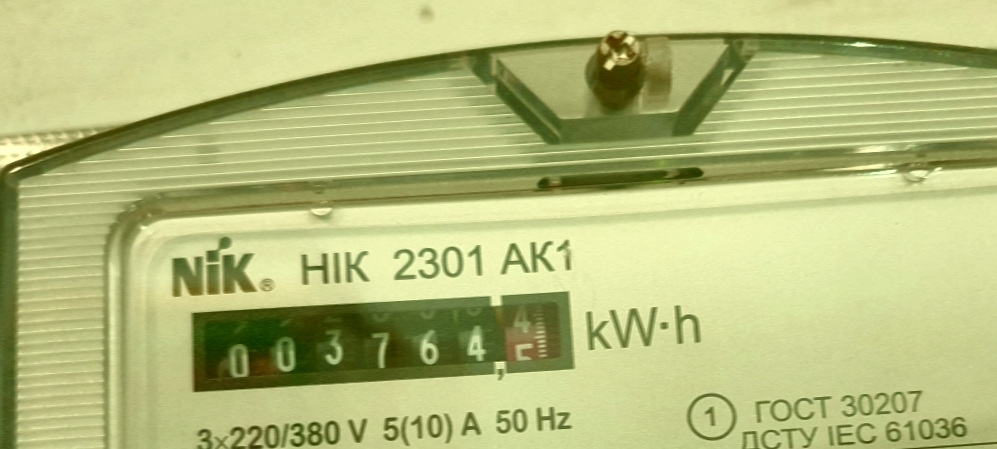0: (226, 341, 252, 379), (274, 334, 298, 374)
3: (321, 326, 346, 367)
4: (466, 323, 487, 364), (511, 302, 534, 335)
5: (513, 341, 536, 363)
6: (418, 327, 441, 367)
7: (369, 328, 395, 371)
screen: (174, 273, 591, 408)
